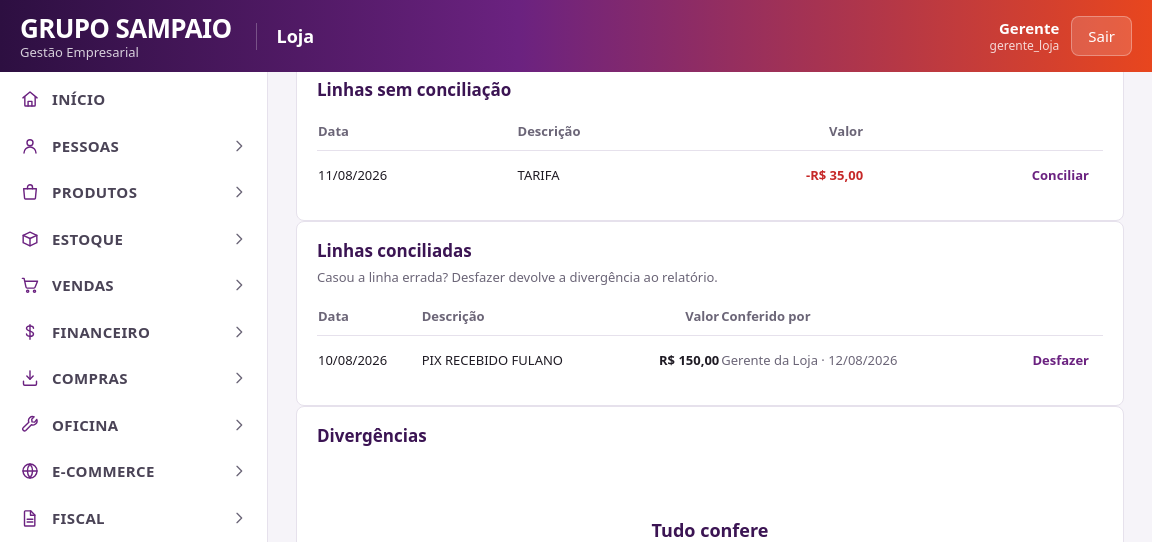
desfazer o casamento (GAP-V26) › desfazer PERGUNTA antes — o clique não apaga a conferência sozinho
(page scrolled)
Expected: the heading "Linhas conciliadas" is shown, [317, 239, 472, 262]
Click the button with aria-label "Desfazer a conciliação de PIX RECEBIDO FULANO": (1061, 360) [1019, 344, 1102, 377]
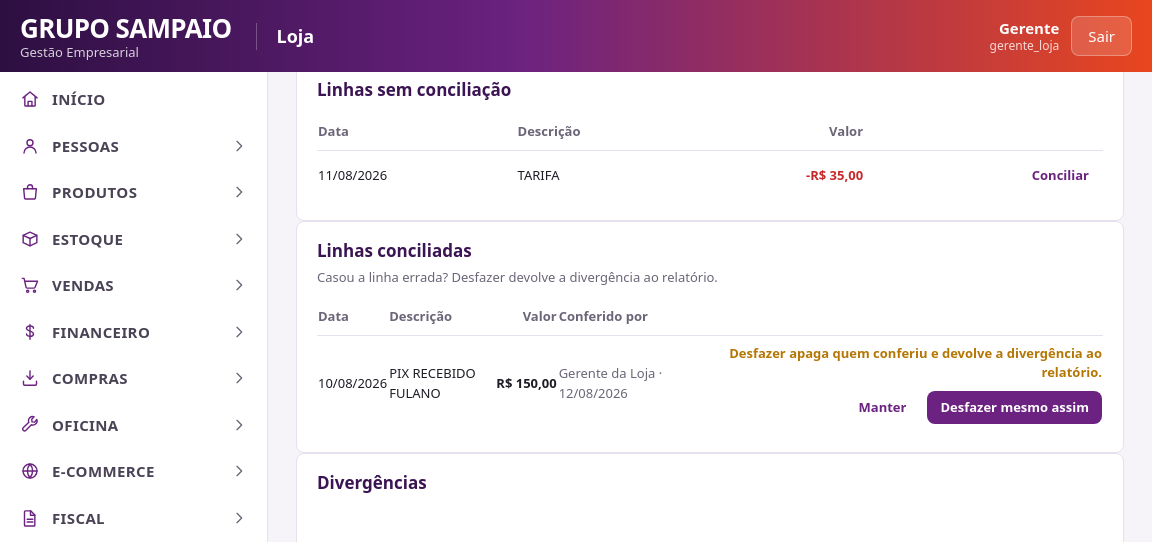
Now the dialog named "Desfazer a conciliação?" is shown, box [687, 344, 1102, 424]
